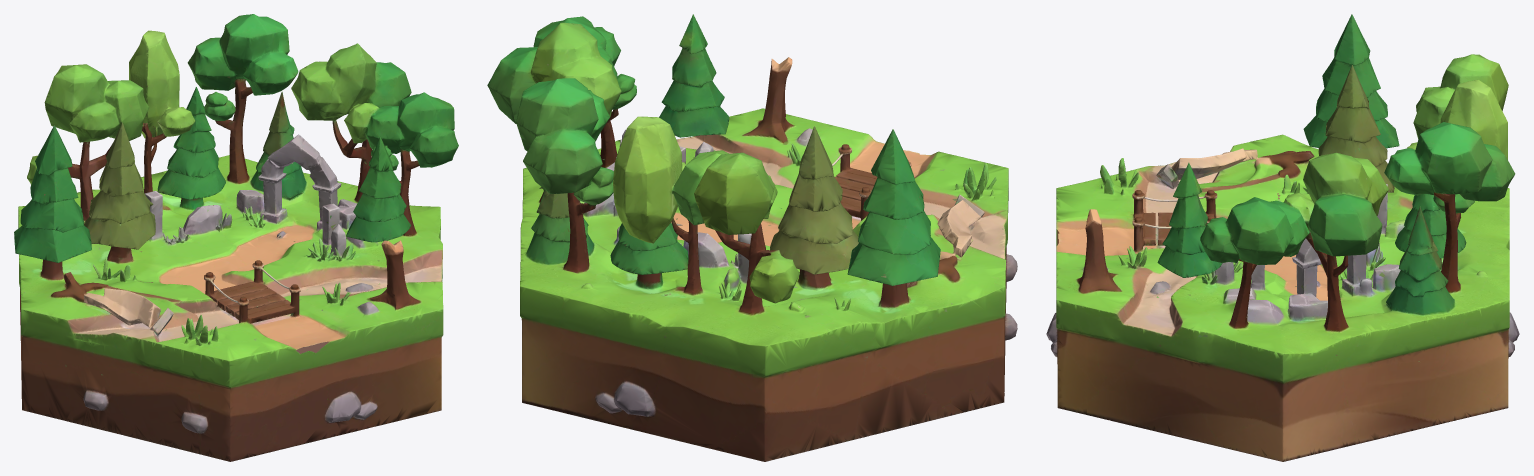
File: foresttile_lv3.glb
3 views of the same model, side by side, from view 1: azimuth 30°, elevation 25°; view 2: azimuth 150°, elevation 25°; view 3: azimuth 270°, elevation 25° (orthographic). The views are drawn at different scales.
Bounding box in the file's own units: 1.9 × 1.14 × 1.73.
1 material, 1 textured.
